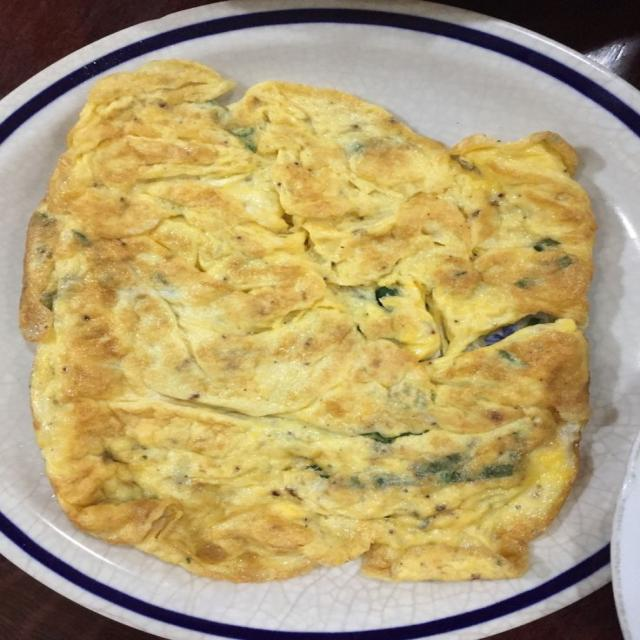omelette: (21, 61, 594, 581)
